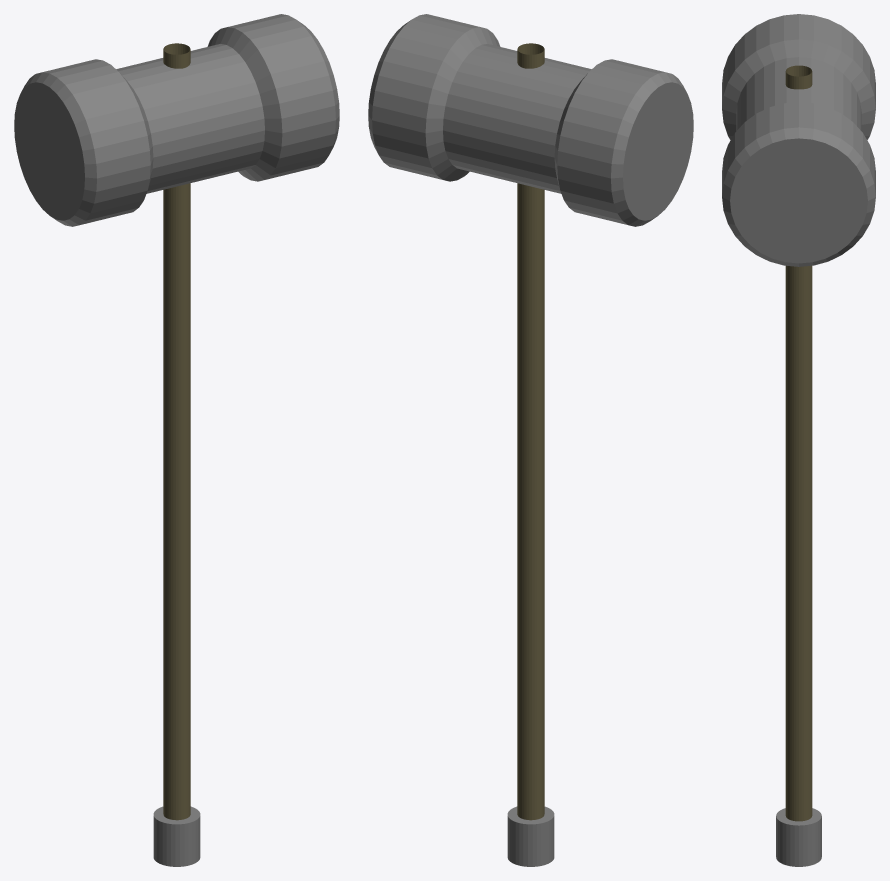
Rendered from GreatHammer.glb.
The picture shows the model from 3 angles, left to right: view 1: azimuth 30°, elevation 25°; view 2: azimuth 150°, elevation 25°; view 3: azimuth 270°, elevation 25°; orthographic projection. The views are drawn at different scales.
Visible parts, largest first — view 1: Cylinder.001; view 2: Cylinder.001; view 3: Cylinder.001.
Part boxes in pixels (bbox=[...]): Cylinder.001: bbox=[14, 14, 339, 866]; Cylinder.001: bbox=[368, 14, 693, 866]; Cylinder.001: bbox=[722, 14, 875, 866].
Size of the model in its own units: 0.2905 by 0.8809 by 0.1563.
